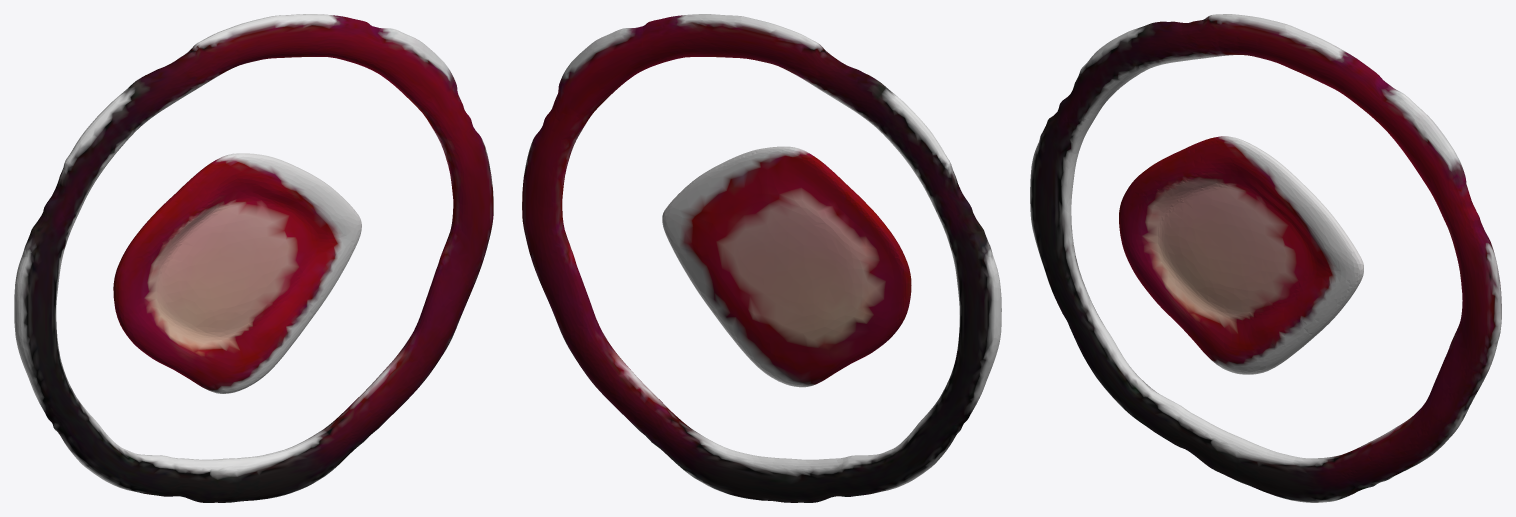
Rendered from big_eye.glb.
3 renders of one model, left to right at view 1: azimuth 30°, elevation 25°; view 2: azimuth 150°, elevation 25°; view 3: azimuth 330°, elevation 25°, orthographic.
Visible parts, largest first — view 1: geometry_0; view 2: geometry_0; view 3: geometry_0.
Part boxes in pixels (bbox=[...]): geometry_0: bbox=[14, 14, 493, 502]; geometry_0: bbox=[522, 14, 1001, 502]; geometry_0: bbox=[1030, 14, 1501, 502].
Size of the model in its own units: 0.375 by 0.361 by 0.0229.
